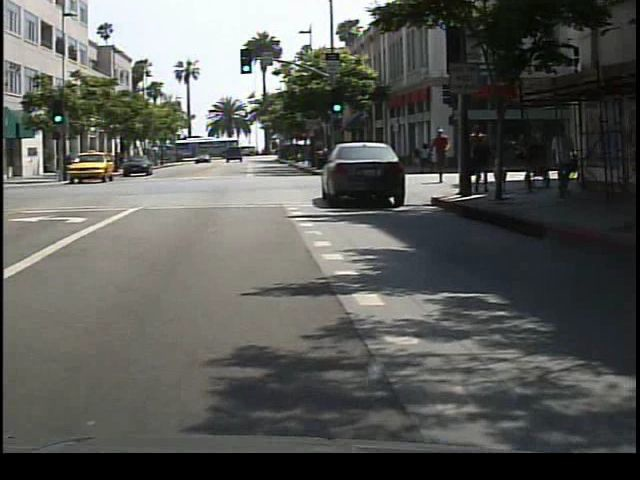person: (432, 126, 457, 188)
